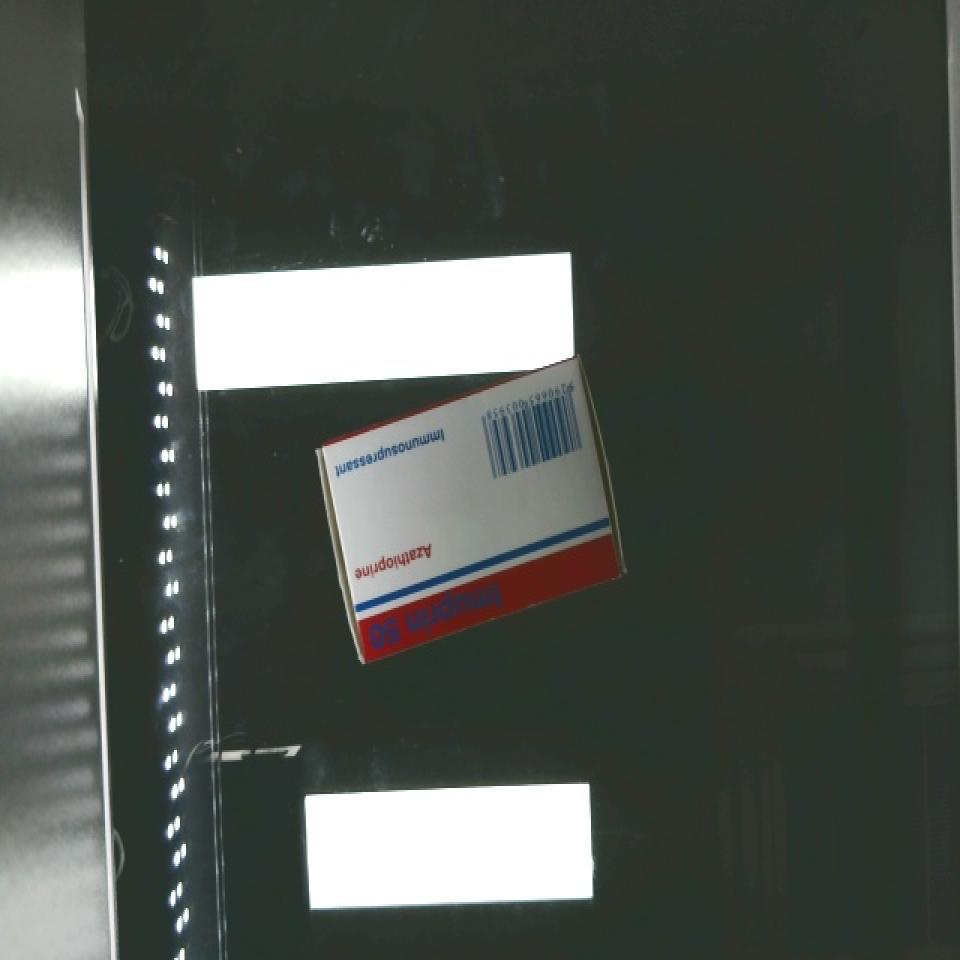medicine_box: (285, 350, 658, 668)
medicine_label_obb: (351, 564, 522, 662)
